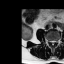CCS_normal: (51, 38, 53, 48)
LFS_normal: (55, 38, 57, 44)
LLS_normal: (53, 38, 55, 45)
RFS_stenosis: (47, 37, 49, 44)
RLS_normal: (49, 38, 51, 44)
